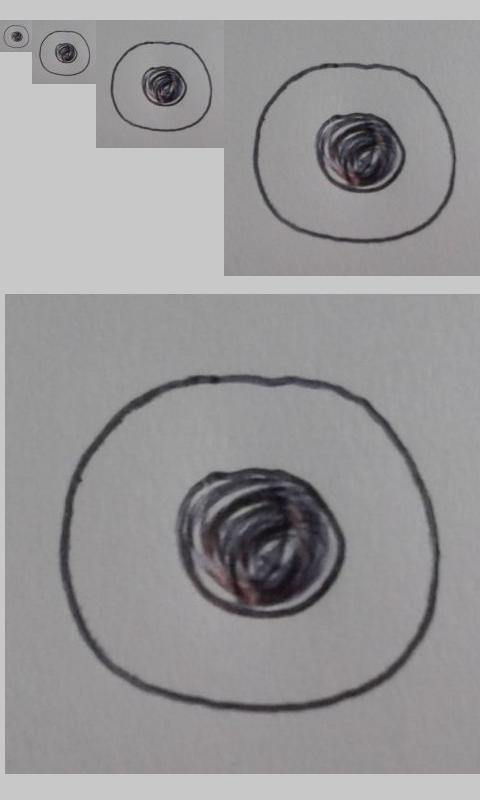radio_button: (55, 370, 445, 714), (249, 58, 459, 245), (109, 40, 214, 133), (38, 29, 91, 77), (2, 24, 30, 49)
